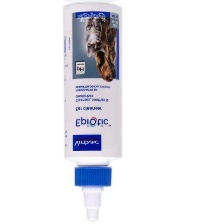cleaning_solution: (61, 0, 124, 223)
